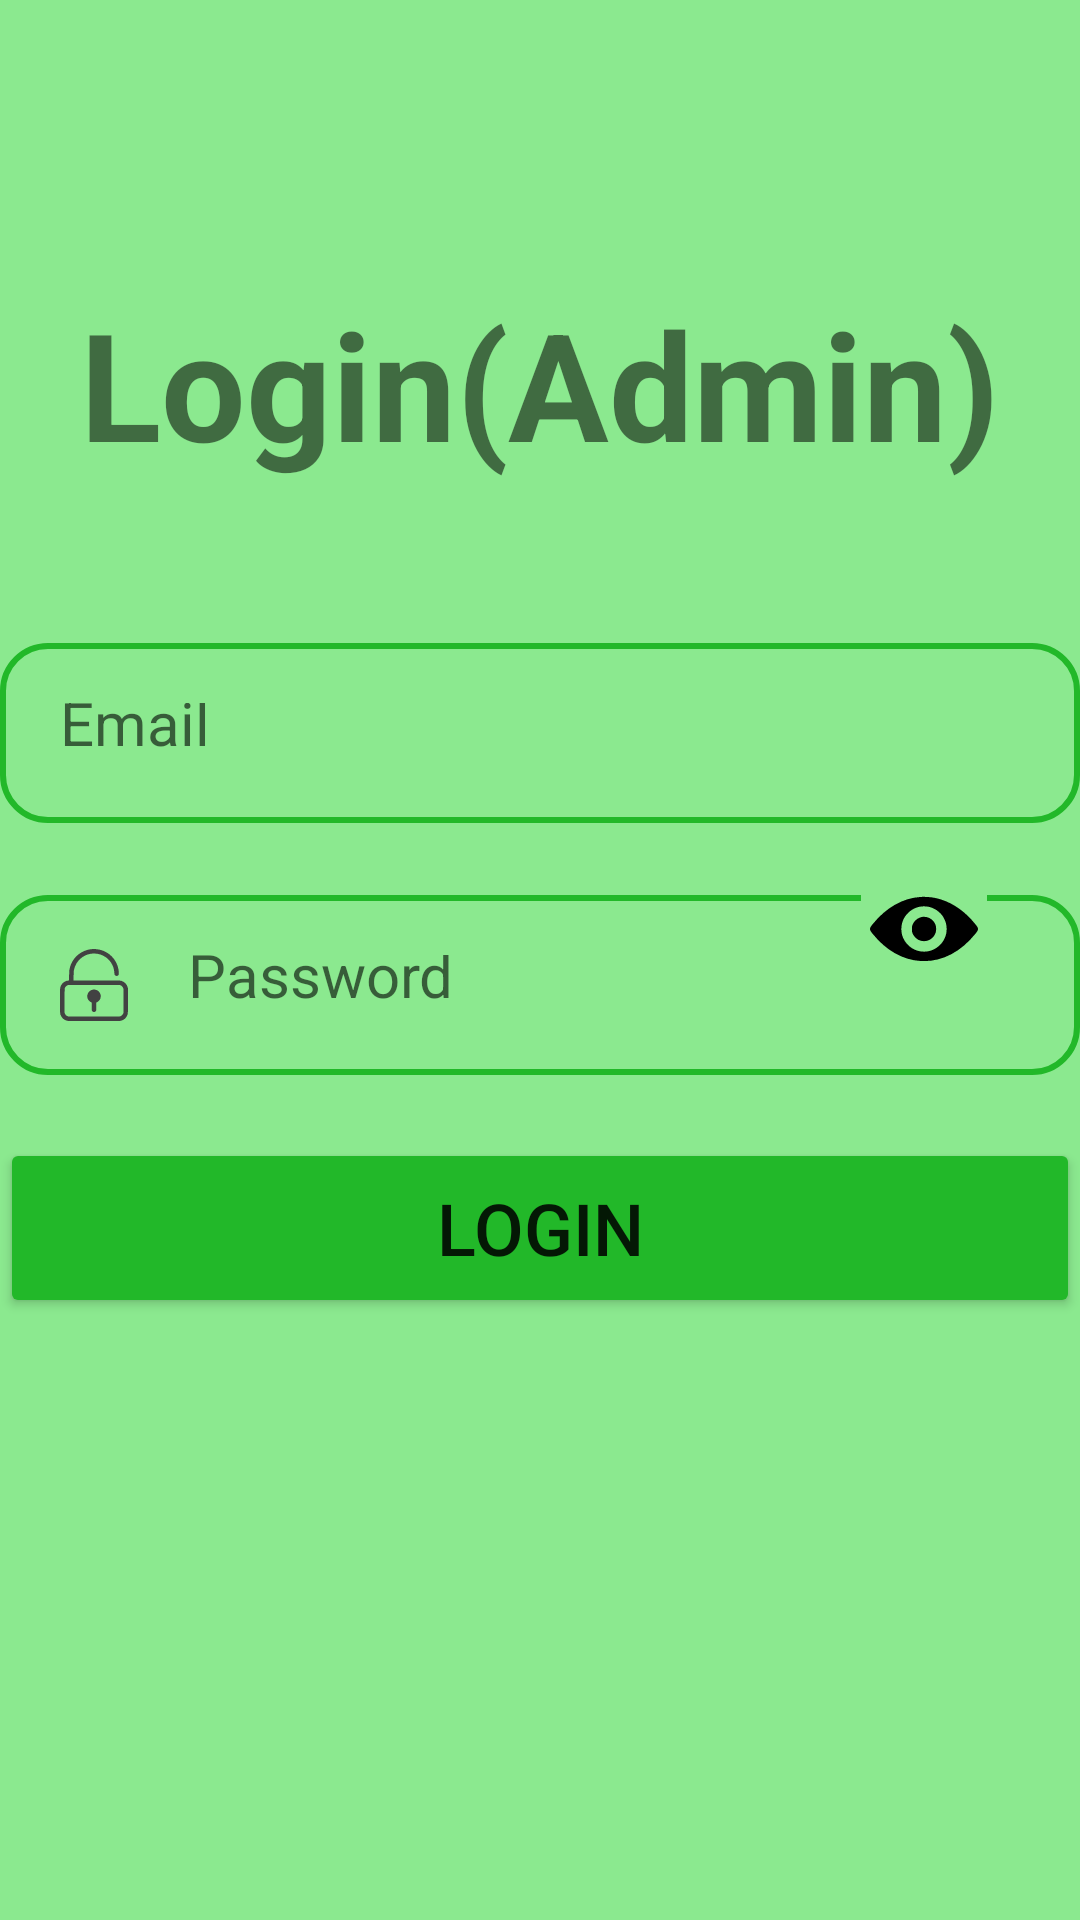

Named icons in this screenshot (1080*1920) and their centers, (x,y):
eye: (924,928)
